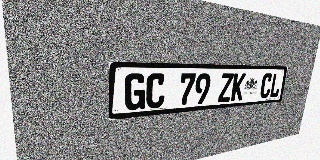7: (177, 73, 196, 106)
9: (194, 73, 211, 105)
C: (145, 73, 166, 109), (259, 73, 273, 99)
G: (124, 73, 146, 111)
K: (231, 73, 246, 101)
L: (269, 73, 282, 98)
Z: (218, 73, 234, 102)
